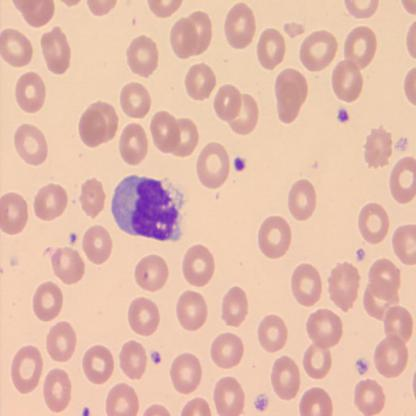Monocyte: (109, 172, 188, 243)
